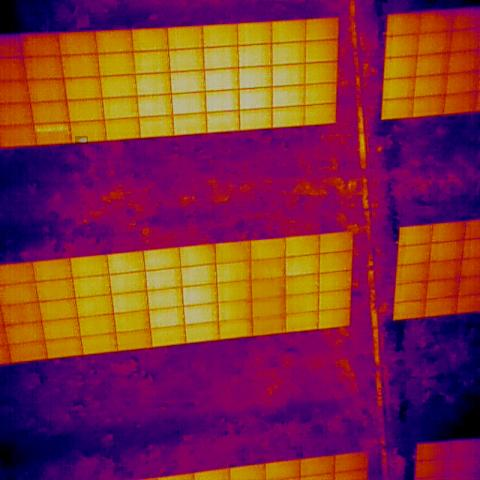fault: (34, 126, 68, 133), (75, 136, 88, 145)
